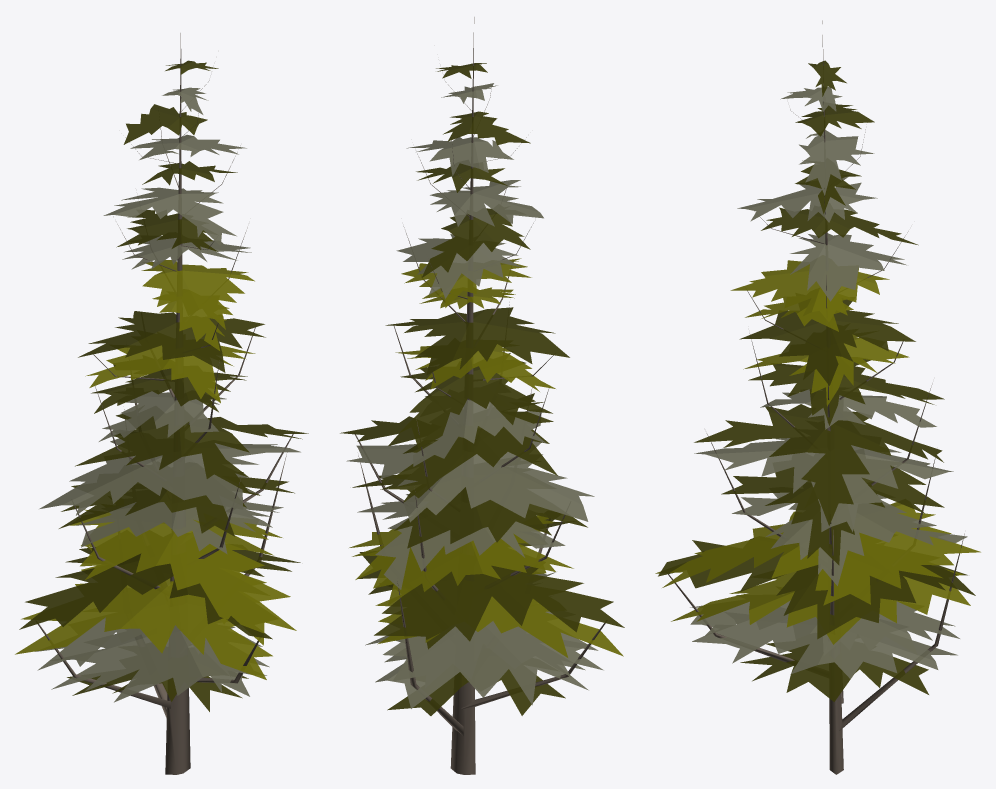
Rendered from Tree5.dae.
3 views of the same model, side by side, from view 1: azimuth 30°, elevation 25°; view 2: azimuth 150°, elevation 25°; view 3: azimuth 270°, elevation 25° (orthographic).
Visible parts, largest first — view 1: group_14, group_11, group_8, group_15, group_9, group_17, group_26, group_20, group_12, group_22, group_10, group_23 (+11 smaller); view 2: group_9, group_8, group_13, group_14, group_20, group_26, group_17, group_19, group_10, group_12, group_15, group_11 (+11 smaller); view 3: group_14, group_17, group_9, group_8, group_15, group_20, group_12, group_10, group_13, group_11, group_26, group_6 (+13 smaller).
Part boxes in pixels (left/top/right/bottom): group_14: left=70, top=509, right=296, bottom=645; group_11: left=15, top=546, right=272, bottom=679; group_8: left=39, top=438, right=300, bottom=515; group_15: left=51, top=627, right=266, bottom=702; group_9: left=19, top=547, right=300, bottom=639; group_17: left=75, top=414, right=308, bottom=493; group_26: left=37, top=33, right=293, bottom=774; group_20: left=78, top=311, right=265, bottom=372; group_12: left=75, top=502, right=283, bottom=554; group_22: left=141, top=260, right=254, bottom=329; group_10: left=59, top=472, right=294, bottom=536; group_23: left=85, top=345, right=255, bottom=403; group_9: left=358, top=518, right=624, bottom=649; group_8: left=346, top=410, right=594, bottom=522; group_13: left=365, top=572, right=603, bottom=688; group_14: left=349, top=515, right=573, bottom=605; group_20: left=385, top=307, right=569, bottom=375; group_26: left=355, top=17, right=605, bottom=774; group_17: left=340, top=393, right=557, bottom=498; group_19: left=399, top=353, right=552, bottom=448; group_10: left=352, top=475, right=587, bottom=548; group_12: left=357, top=494, right=565, bottom=589; group_15: left=375, top=611, right=598, bottom=708; group_11: left=375, top=568, right=623, bottom=657; group_14: left=655, top=502, right=980, bottom=605; group_17: left=694, top=404, right=943, bottom=525; group_9: left=658, top=538, right=975, bottom=639; group_8: left=694, top=438, right=953, bottom=532; group_15: left=692, top=619, right=957, bottom=678; group_20: left=739, top=299, right=915, bottom=385; group_12: left=732, top=492, right=967, bottom=585; group_10: left=721, top=465, right=944, bottom=565; group_13: left=690, top=595, right=959, bottom=655; group_11: left=671, top=569, right=970, bottom=644; group_26: left=668, top=20, right=964, bottom=774; group_6: left=790, top=233, right=906, bottom=301.
Bounding box in the file's own units: 187 × 184 × 468.
